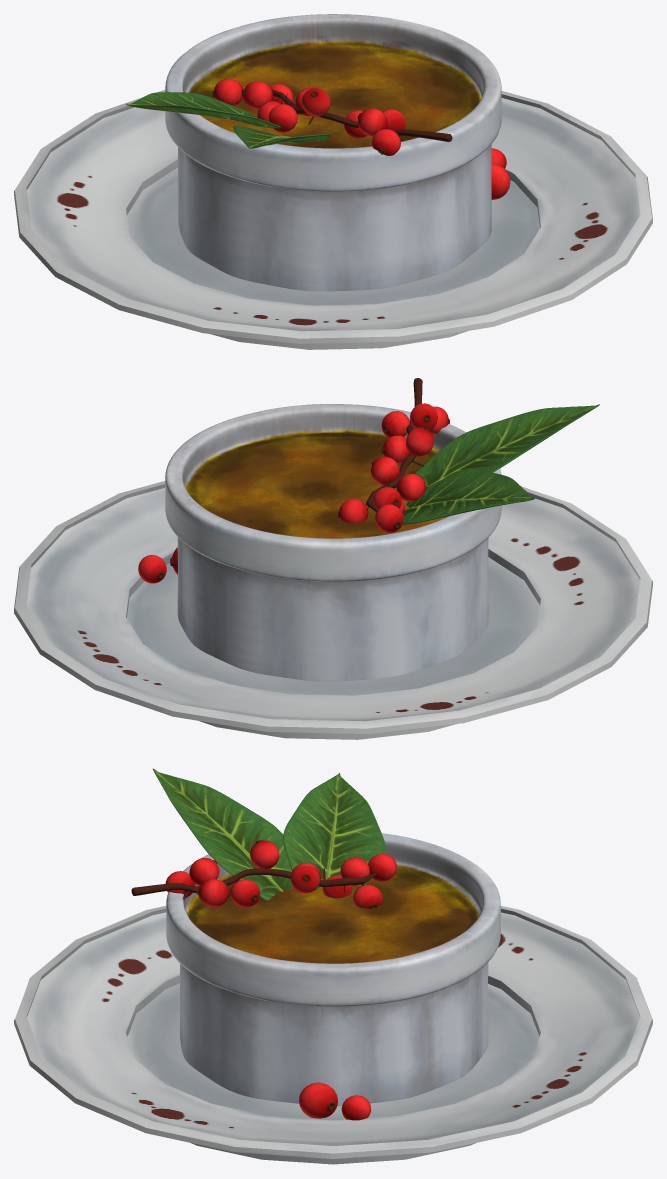
3 views of the same model, one above another, from view 1: azimuth 30°, elevation 25°; view 2: azimuth 150°, elevation 25°; view 3: azimuth 270°, elevation 25° (orthographic).
Visible parts, largest first — view 1: assiette, Adobe_Dimension:polySurface1, feuilleplate:Adobe_Dimension:polySurface1_feuilleplate:PxrSu, polySurface1, groseille:pCylinder1, groseille:pSphere16, groseille:pSphere18, groseille:pSphere24, groseille:pSphere17, groseille:pSphere25, groseille:pSphere21, pSphere23; view 2: assiette, Adobe_Dimension:polySurface1, polySurface1, feuilleplate:Adobe_Dimension:polySurface1_feuilleplate:PxrSu, groseille:pCylinder1, groseille:pSphere16, groseille:pSphere25, pSphere25, groseille:pSphere26, groseille:pSphere17, groseille:pSphere22, groseille:pSphere19 (+2 smaller); view 3: assiette, Adobe_Dimension:polySurface1, polySurface1, feuilleplate:Adobe_Dimension:polySurface1_feuilleplate:PxrSu, groseille:pCylinder1, pSphere23, groseille:pSphere22, groseille:pSphere16, groseille:pSphere23, groseille:pSphere26, groseille:pSphere25, groseille:pSphere24 (+2 smaller).
Boxes of the visible parts, x1,y1,x2,y2 form: assiette: [14, 90, 652, 349]; Adobe_Dimension:polySurface1: [165, 14, 501, 291]; feuilleplate:Adobe_Dimension:polySurface1_feuilleplate:PxrSu: [126, 92, 281, 128]; polySurface1: [233, 125, 330, 148]; groseille:pCylinder1: [271, 89, 452, 141]; groseille:pSphere16: [301, 88, 330, 116]; groseille:pSphere18: [241, 81, 272, 109]; groseille:pSphere24: [357, 108, 387, 136]; groseille:pSphere17: [268, 104, 297, 132]; groseille:pSphere25: [212, 78, 243, 105]; groseille:pSphere21: [371, 129, 400, 155]; pSphere23: [491, 163, 510, 199]; assiette: [14, 481, 652, 739]; Adobe_Dimension:polySurface1: [165, 404, 501, 681]; polySurface1: [414, 404, 599, 486]; feuilleplate:Adobe_Dimension:polySurface1_feuilleplate:PxrSu: [402, 469, 534, 524]; groseille:pCylinder1: [366, 378, 424, 511]; groseille:pSphere16: [406, 427, 434, 456]; groseille:pSphere25: [375, 504, 403, 532]; pSphere25: [138, 555, 166, 583]; groseille:pSphere26: [370, 456, 399, 485]; groseille:pSphere17: [397, 474, 426, 501]; groseille:pSphere22: [381, 411, 409, 437]; groseille:pSphere19: [338, 499, 368, 523]; assiette: [14, 906, 652, 1164]; Adobe_Dimension:polySurface1: [166, 833, 500, 1106]; polySurface1: [153, 768, 293, 900]; feuilleplate:Adobe_Dimension:polySurface1_feuilleplate:PxrSu: [283, 773, 385, 890]; groseille:pCylinder1: [131, 868, 376, 900]; pSphere23: [299, 1082, 337, 1118]; groseille:pSphere22: [198, 879, 230, 906]; groseille:pSphere16: [250, 839, 279, 869]; groseille:pSphere23: [230, 879, 260, 907]; groseille:pSphere26: [290, 865, 319, 893]; groseille:pSphere25: [368, 853, 396, 881]; groseille:pSphere24: [189, 858, 219, 885].
Bounding box in the file's own units: 2 × 0.7349 × 2.
Materials: 5 (4 with a texture image).
